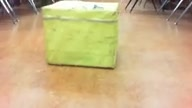cube: (41, 1, 119, 69)
